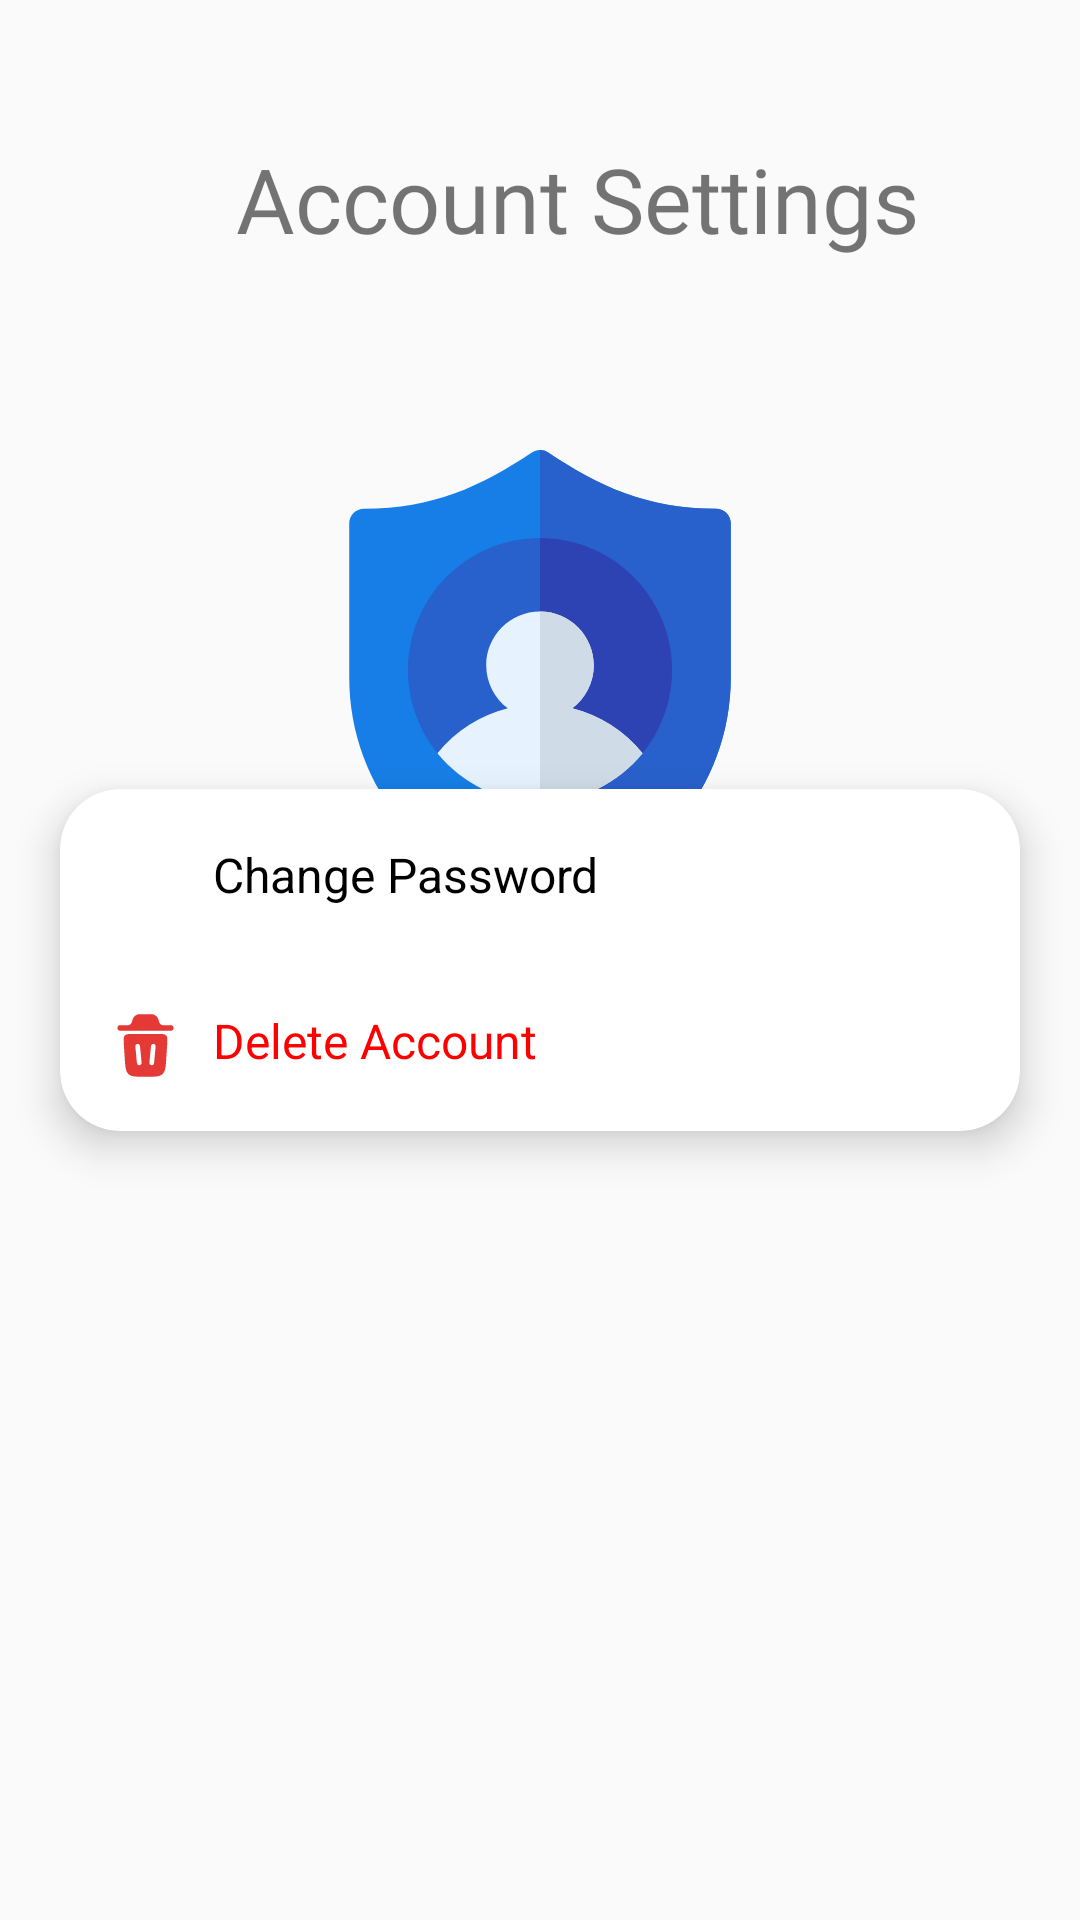

Icon click points for this 1080*1920 phone screenshot, format (x,y):
trash bin: (145,1045)
